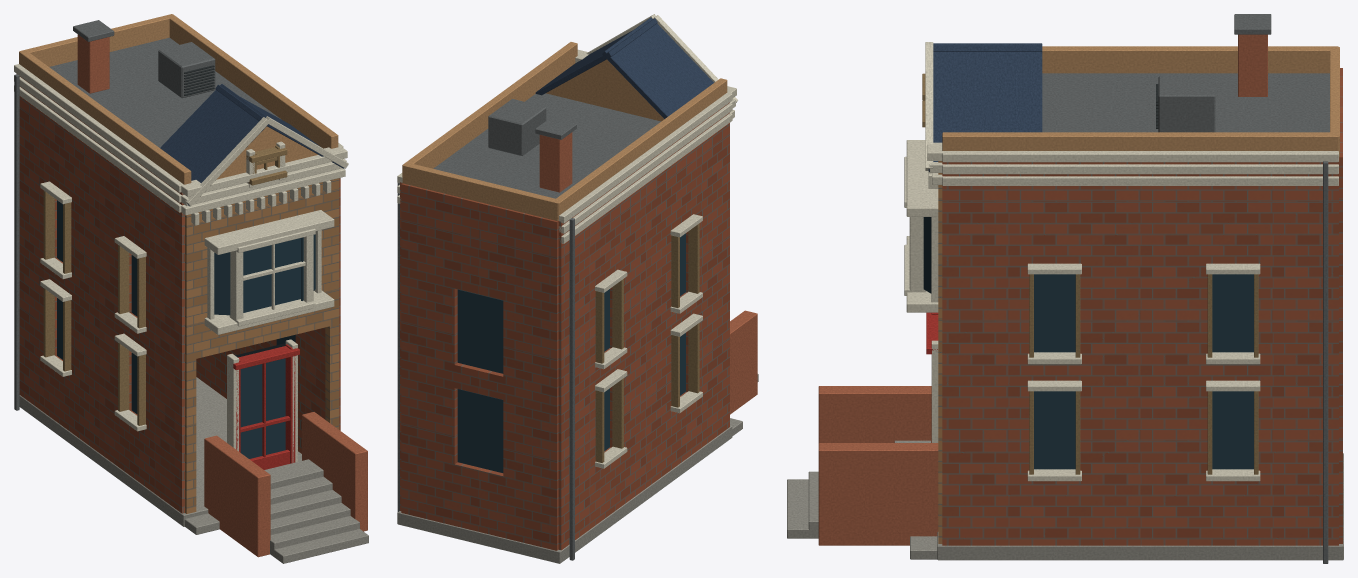
The model's file is VICT2B_lod1.glb.
3 renders of one model, left to right at view 1: azimuth 30°, elevation 25°; view 2: azimuth 150°, elevation 25°; view 3: azimuth 270°, elevation 25°, orthographic. The views are drawn at different scales.
Parts seen in each view (by area): view 1: VICT2B_LOD1; view 2: VICT2B_LOD1; view 3: VICT2B_LOD1.
Part boxes in pixels (box(x1,y1,x2,y2)): VICT2B_LOD1: box(14, 14, 368, 563); VICT2B_LOD1: box(397, 14, 758, 563); VICT2B_LOD1: box(787, 14, 1343, 563).
Size of the model in its own units: 3.71 by 7.86 by 8.43.
Materials: 13 (11 with a texture image).
